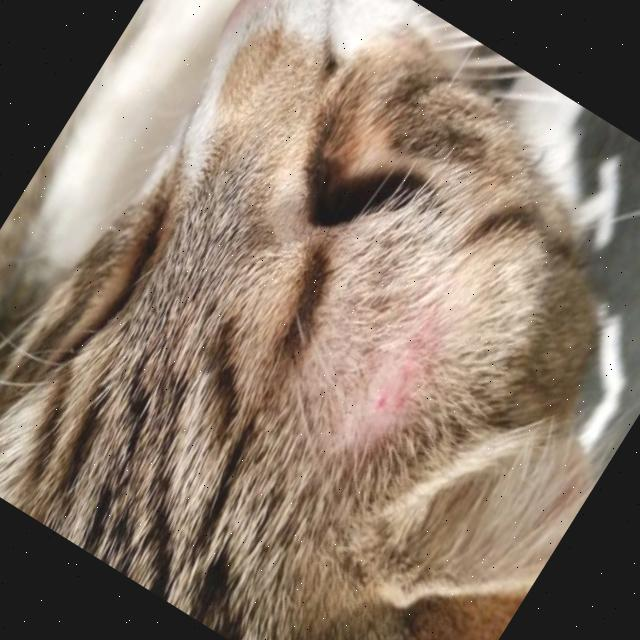cat-ringworm: (321, 290, 472, 455)
